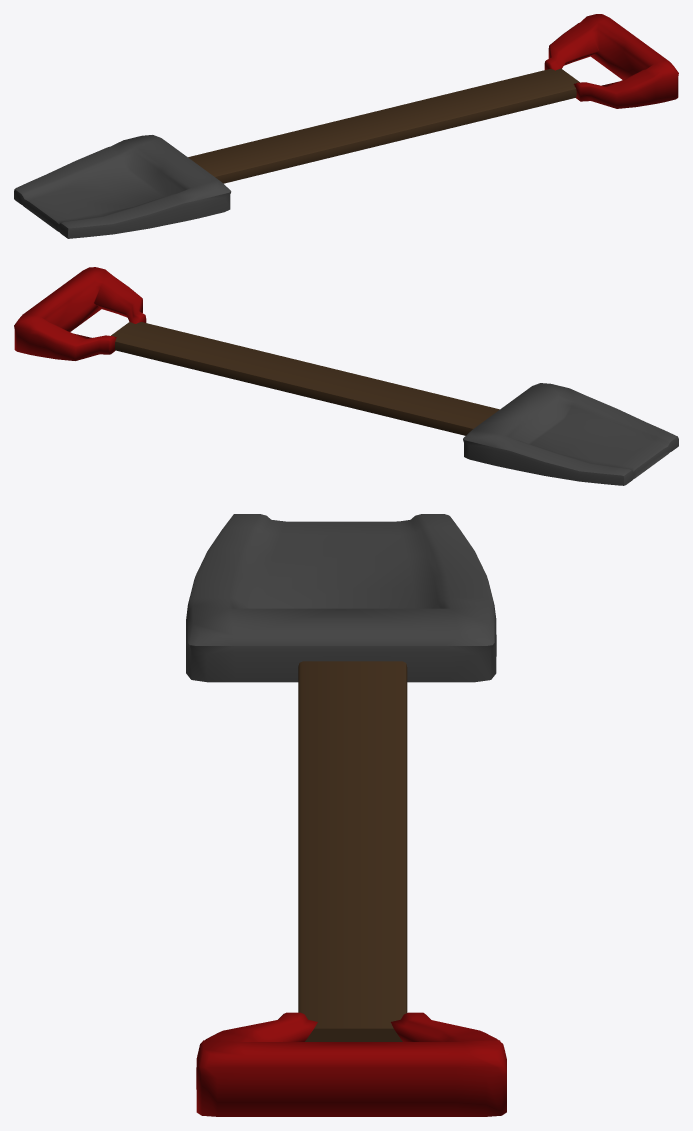
File: Pala.fbx
3 renders of one model, top to bottom at view 1: azimuth 30°, elevation 25°; view 2: azimuth 150°, elevation 25°; view 3: azimuth 270°, elevation 25°, orthographic. The views are drawn at different scales.
Parts seen in each view (by area): view 1: Pala; view 2: Pala; view 3: Pala.
Boxes of the visible parts, x1,y1,x2,y2 form: Pala: (14, 14, 678, 238); Pala: (14, 267, 678, 485); Pala: (186, 514, 506, 1116).
Bounding box in the file's own units: 100 × 4.8 × 23.37.
